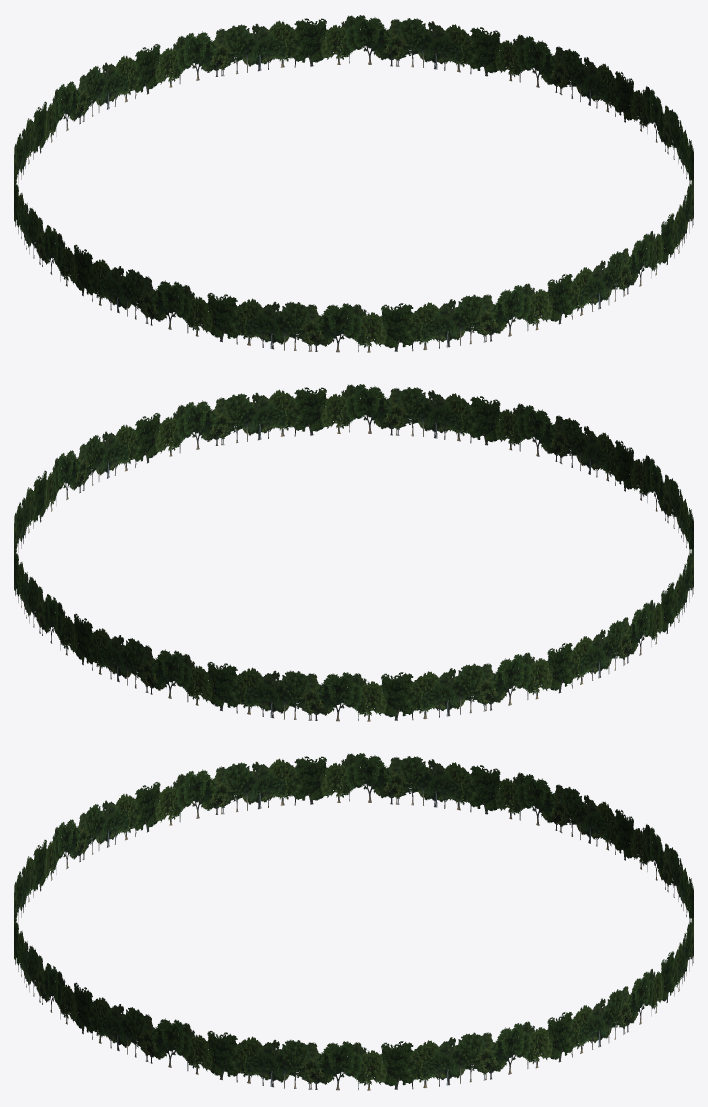
3 views of the same model, one above another, from view 1: azimuth 30°, elevation 25°; view 2: azimuth 150°, elevation 25°; view 3: azimuth 270°, elevation 25° (orthographic).
Bounding box in the file's own units: 144 × 12 × 143.
